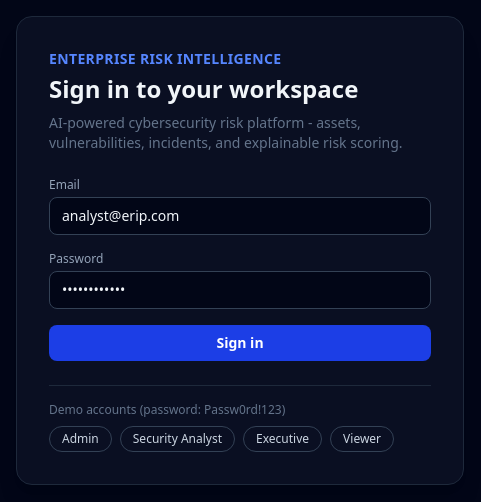
Test: LoginPage › clicking a demo account chip fills in the email field
The image size is (481, 502).
Click the button "Executive" at point(283, 438), box [243,426,322,452]
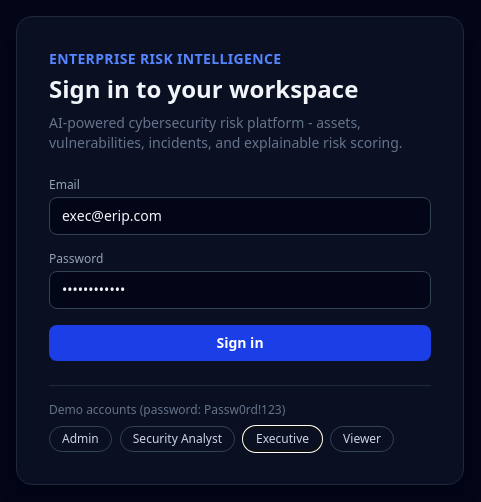
Now the field showing "exec@erip.com" is shown, box [49,196,431,234]
